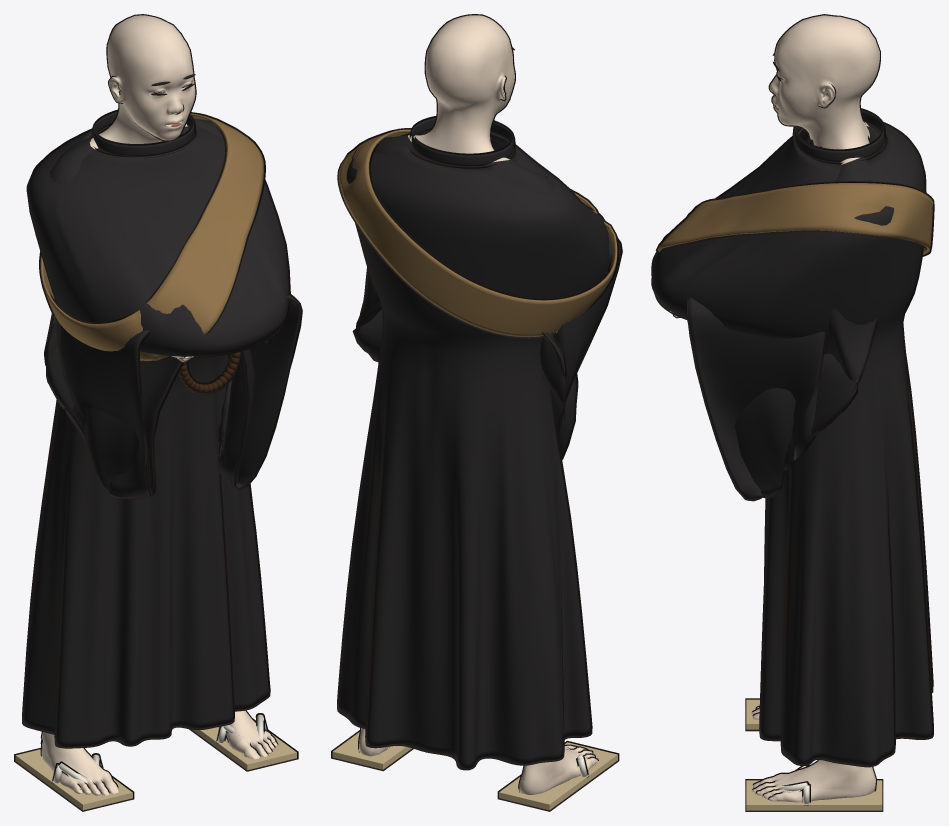
File: sou_hoshi.glb
The picture shows the model from 3 angles, left to right: view 1: azimuth 30°, elevation 25°; view 2: azimuth 150°, elevation 25°; view 3: azimuth 270°, elevation 25°; orthographic projection.
Visible parts, largest first — view 1: koromo, Human, sode.R, kesa, sode.L, koromo_sen, zori.R, sode.R_sen, eri, kesa_sen, zori.L, Human_sen (+1 smaller); view 2: koromo, Human, kesa, koromo_sen, sode.R, kesa_sen, zori.R, eri, sode.L, zori.L, sode.R_sen, Human_sen (+1 smaller); view 3: koromo, sode.L, Human, kesa, koromo_sen, zori.L, kesa_sen, eri, sode.L_sen, Human_sen.
Boxes of the visible parts, x1,y1,x2,y2 form: koromo: [23, 126, 288, 746]; Human: [41, 15, 276, 795]; sode.R: [45, 299, 181, 497]; kesa: [40, 113, 263, 360]; sode.L: [218, 295, 300, 489]; koromo_sen: [22, 128, 290, 748]; zori.R: [15, 749, 132, 810]; sode.R_sen: [44, 176, 183, 499]; eri: [93, 111, 194, 156]; kesa_sen: [39, 112, 265, 362]; zori.L: [192, 727, 296, 770]; Human_sen: [40, 14, 278, 793]; koromo: [338, 132, 609, 768]; Human: [359, 15, 597, 794]; kesa: [339, 129, 617, 337]; koromo_sen: [337, 133, 611, 770]; sode.R: [540, 240, 620, 457]; kesa_sen: [337, 128, 619, 338]; zori.R: [499, 742, 617, 810]; eri: [411, 117, 513, 166]; sode.L: [354, 272, 382, 361]; zori.L: [332, 732, 411, 769]; sode.R_sen: [541, 176, 622, 459]; Human_sen: [358, 14, 598, 792]; koromo: [653, 124, 932, 765]; sode.L: [688, 296, 876, 499]; Human: [670, 15, 884, 802]; kesa: [657, 183, 932, 254]; koromo_sen: [651, 122, 933, 767]; zori.L: [746, 780, 882, 810]; kesa_sen: [655, 181, 934, 256]; eri: [794, 110, 884, 162]; sode.L_sen: [686, 295, 878, 501]; Human_sen: [668, 14, 880, 799].
Size of the model in its own units: 0.4939 by 1.55 by 0.5387.
